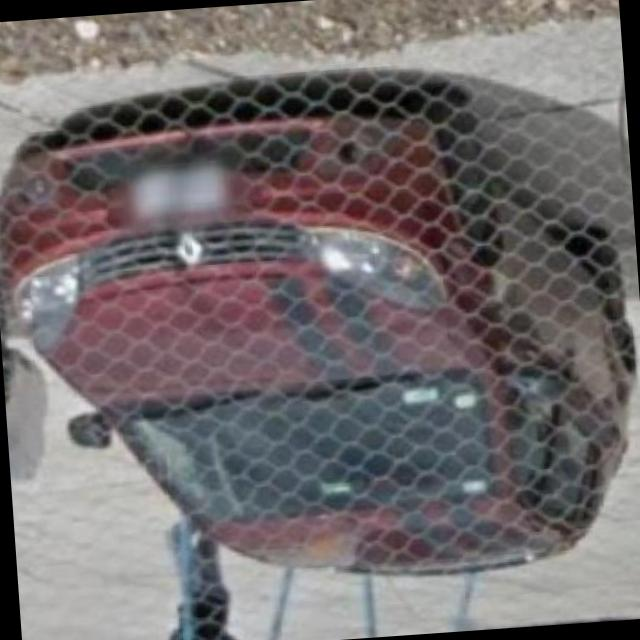car: (0, 71, 640, 617)
